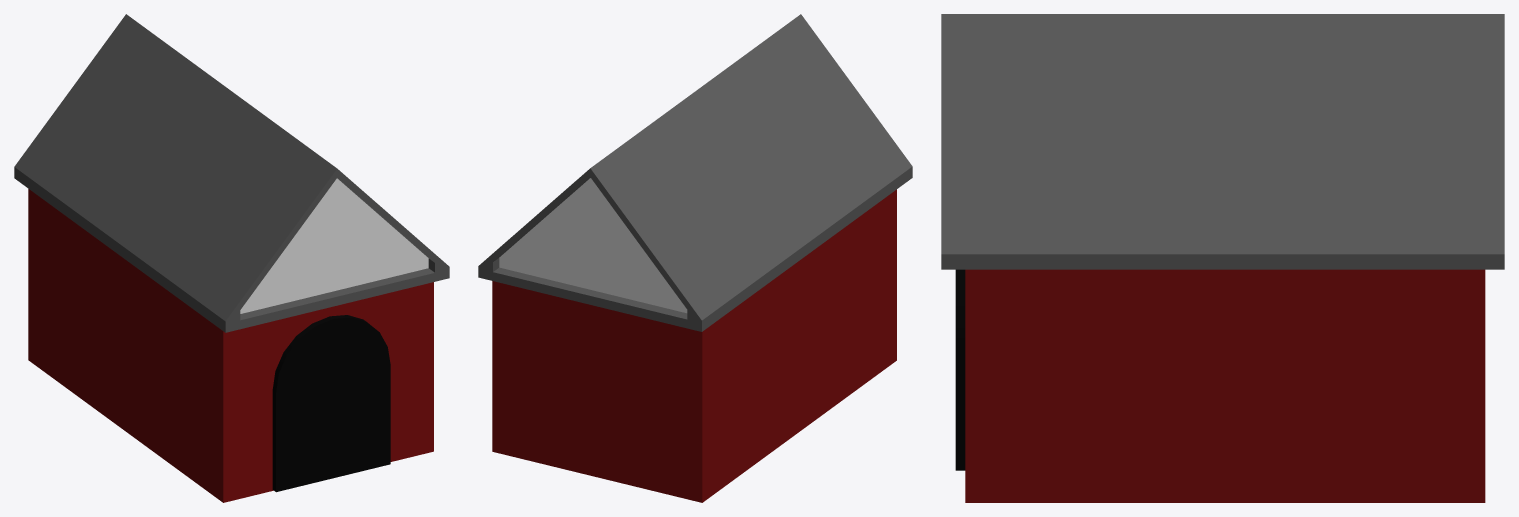
File: Dog_house.fbx
The picture shows the model from 3 angles, left to right: view 1: azimuth 30°, elevation 25°; view 2: azimuth 150°, elevation 25°; view 3: azimuth 270°, elevation 25°; orthographic projection. The views are drawn at different scales.
Visible parts, largest first — view 1: pCube10, pCube9, pCylinder1; view 2: pCube9, pCube10; view 3: pCube10, pCube9, pCylinder1.
Part boxes in pixels (bbox=[...]): pCube10: bbox=[14, 14, 449, 332]; pCube9: bbox=[28, 189, 433, 502]; pCylinder1: bbox=[272, 315, 390, 492]; pCube9: bbox=[492, 189, 896, 502]; pCube10: bbox=[478, 14, 912, 331]; pCube10: bbox=[941, 14, 1504, 269]; pCube9: bbox=[965, 269, 1485, 502]; pCylinder1: bbox=[955, 269, 965, 470].
Size of the model in its own units: 20.52 by 27.59 by 33.51.
